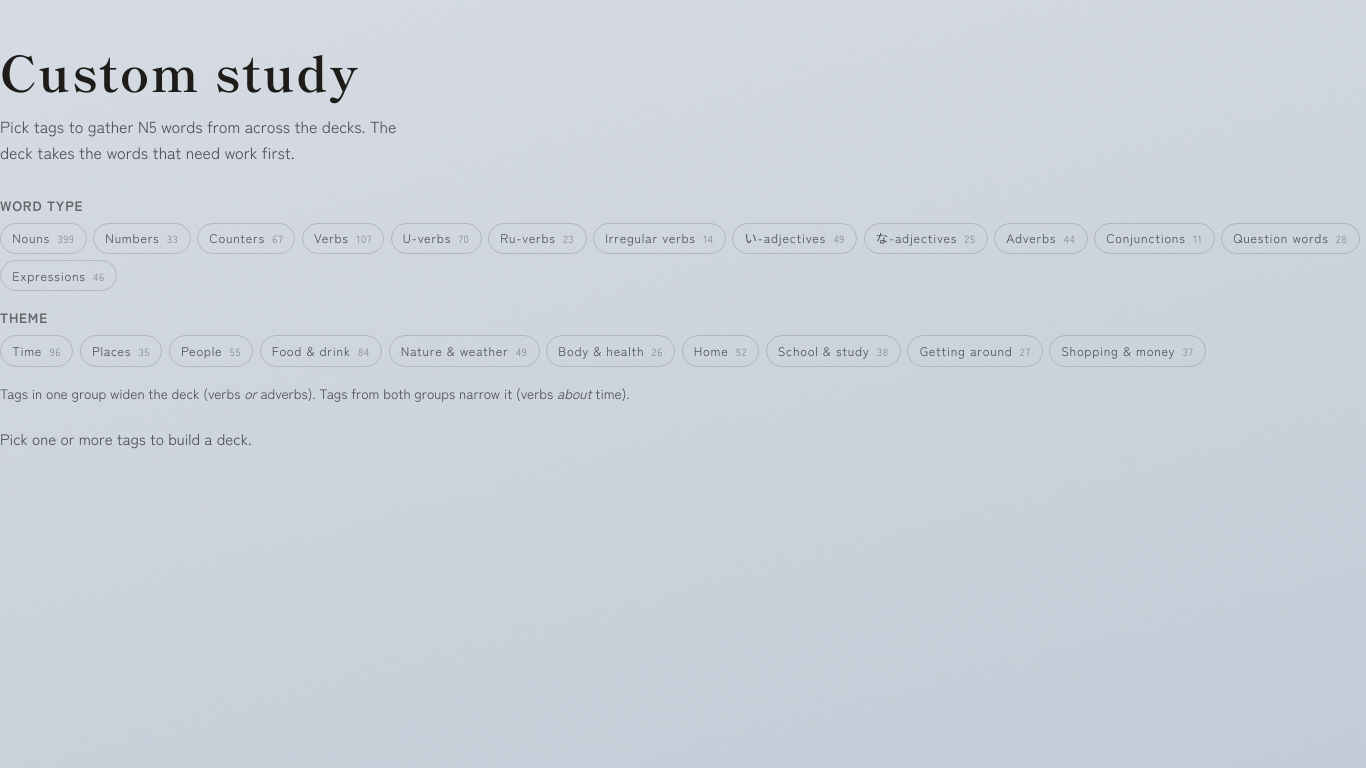
Test: CustomView › puts weak words first and marks each word's mastery
The image size is (1366, 768).
Click the button with class "tag-chip" showing "Verbs 107": point(343, 238) [302,223,384,254]
(page scrolled)
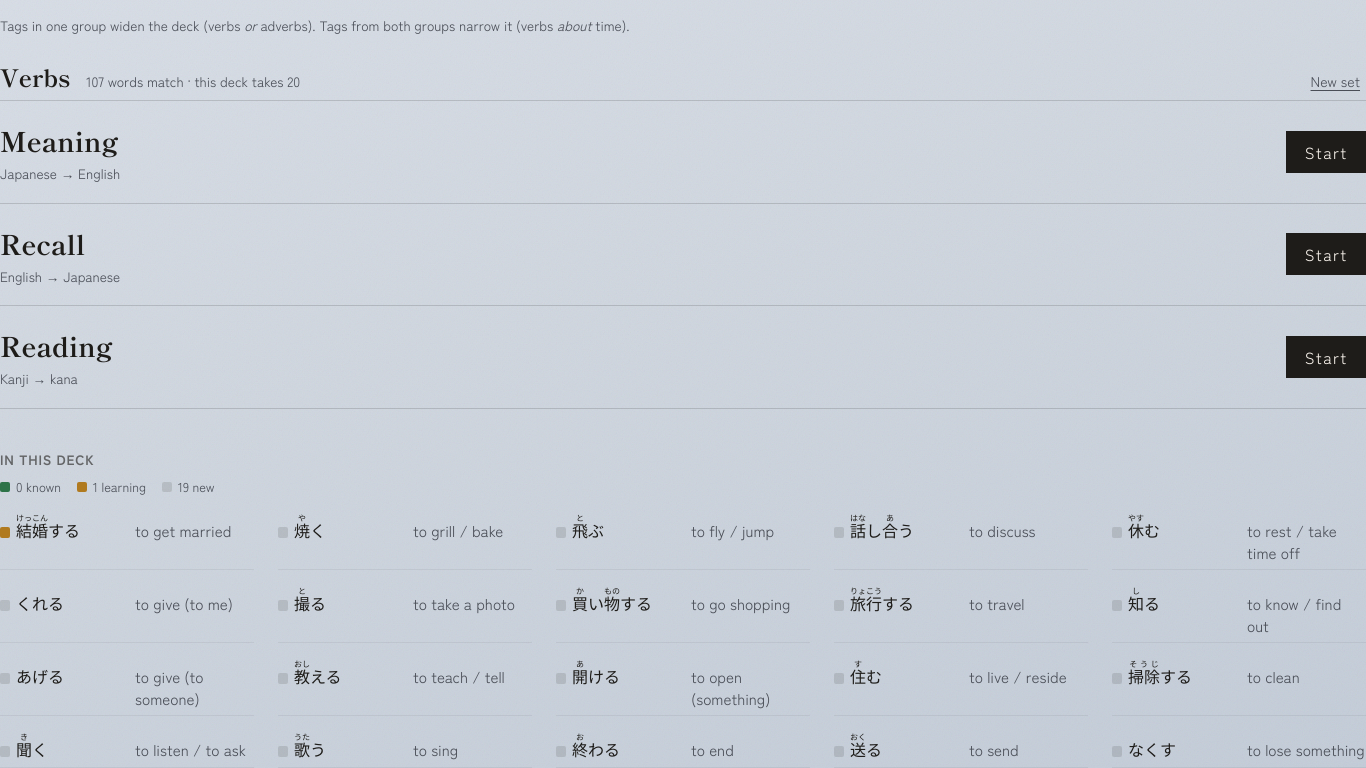
expect the list item "結婚 けっこん する to get married" is shown: met, box [0,505,254,570]
expect the element with class "mastery-legend" shows "19 new": met, box [178,477,214,496]
